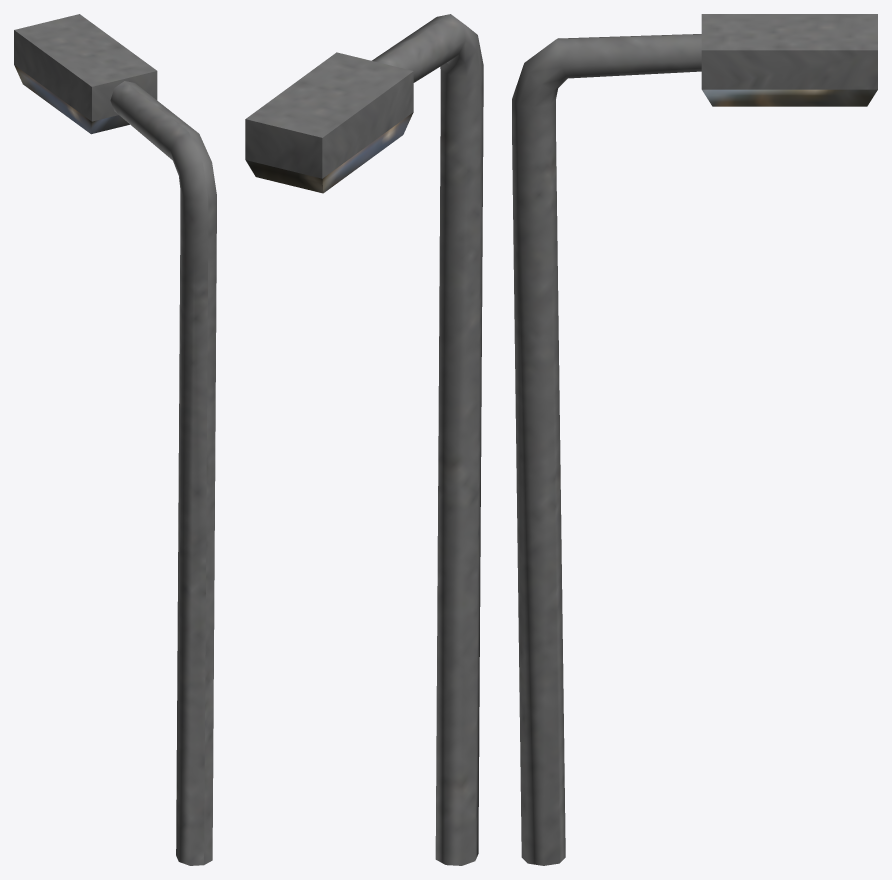
Rendered from Lamppost.fbx.
3 views of the same model, side by side, from view 1: azimuth 30°, elevation 25°; view 2: azimuth 150°, elevation 25°; view 3: azimuth 270°, elevation 25° (orthographic). The views are drawn at different scales.
Visible parts, largest first — view 1: Lamppost, tvscreen:LamppostHead; view 2: Lamppost, tvscreen:LamppostHead; view 3: Lamppost, tvscreen:LamppostHead.
Part boxes in pixels (x1=…): Lamppost: x1=110, y1=81, x2=216, y2=865; tvscreen:LamppostHead: x1=14, y1=14, x2=157, y2=134; Lamppost: x1=372, y1=14, x2=483, y2=865; tvscreen:LamppostHead: x1=245, y1=52, x2=413, y2=193; Lamppost: x1=512, y1=34, x2=701, y2=865; tvscreen:LamppostHead: x1=701, y1=14, x2=877, y2=106.
Size of the model in its own units: 0.5767 by 6.12 by 2.46.
